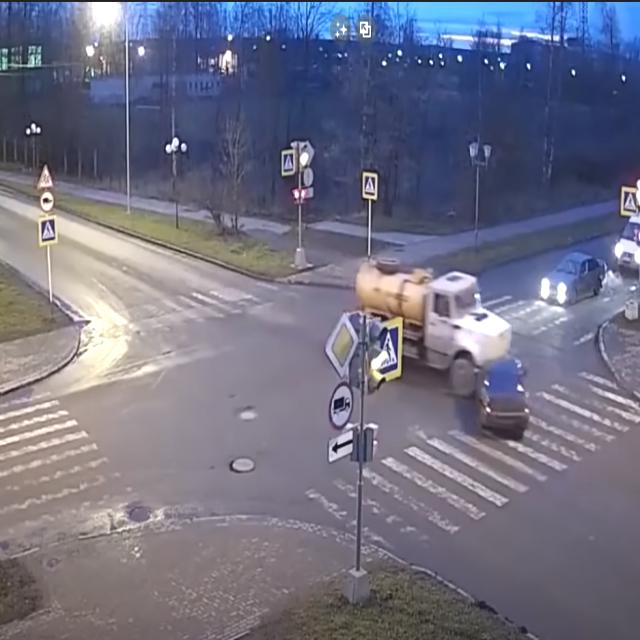accident: (353, 258, 532, 440)
